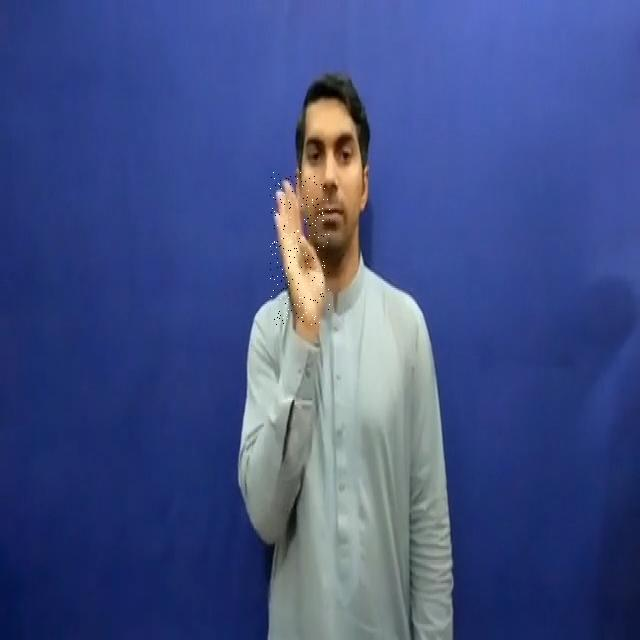napkin: (270, 171, 330, 325)
